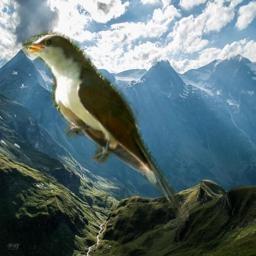Cuckoo: (22, 29, 189, 221)
